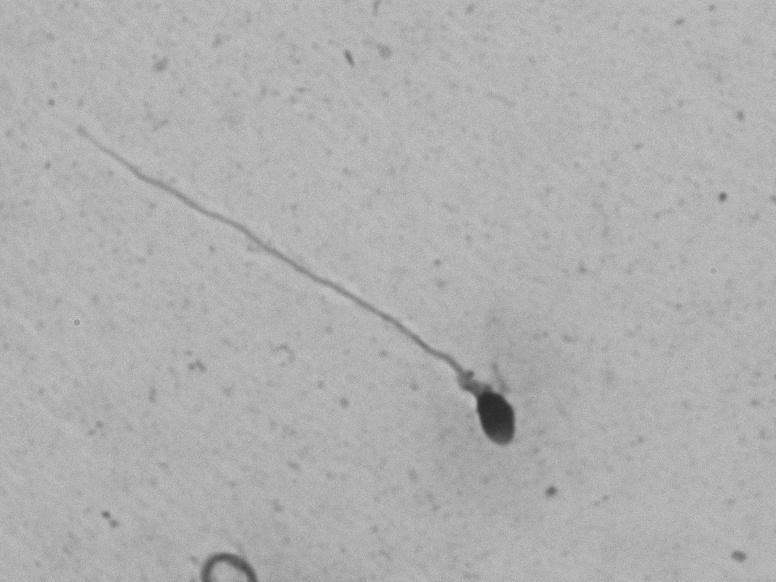Abnormal: (38, 104, 611, 475)
